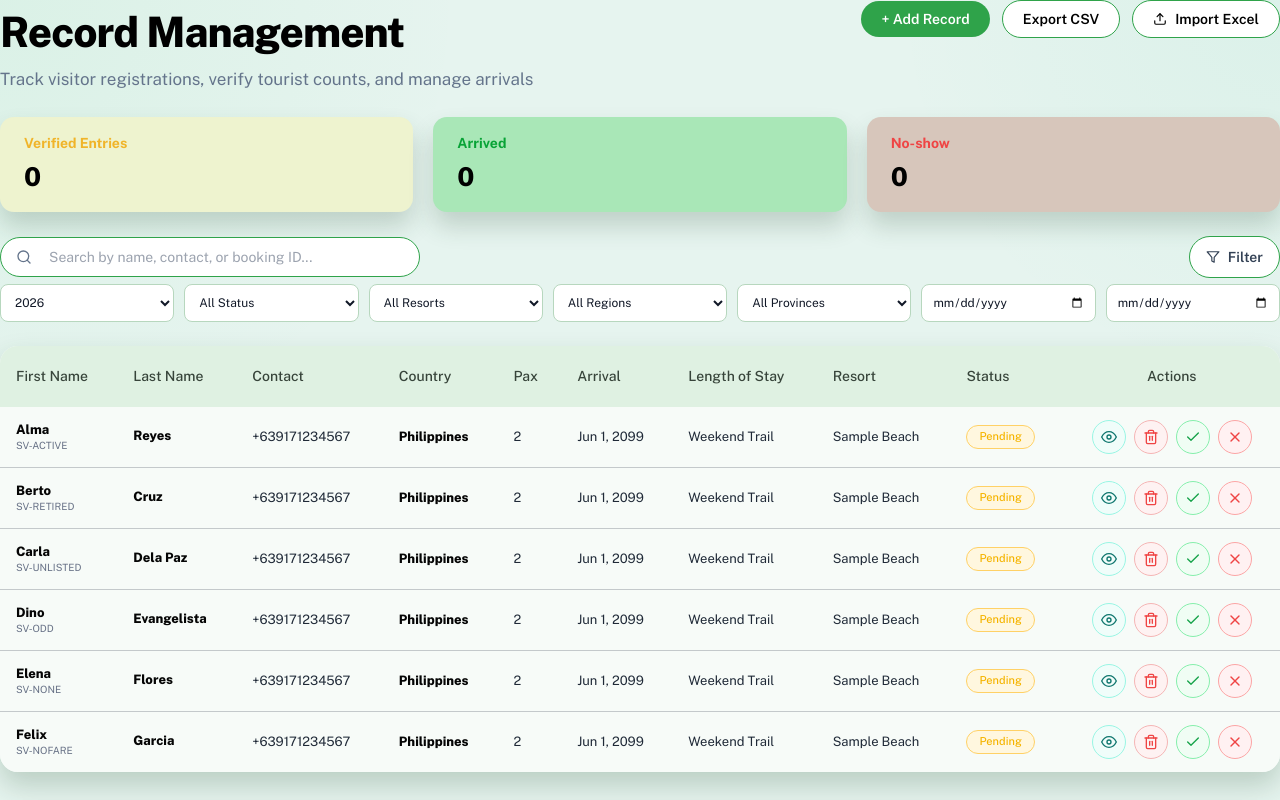
Test: c: a text that is in no tier › is added at the END, marked '(not in the list)', and is the one selected
Step 1. Click the button with class "booking-icon-btn" in the row of "Carla" → x=1109, y=558, box 1092,542 -> 1126,576
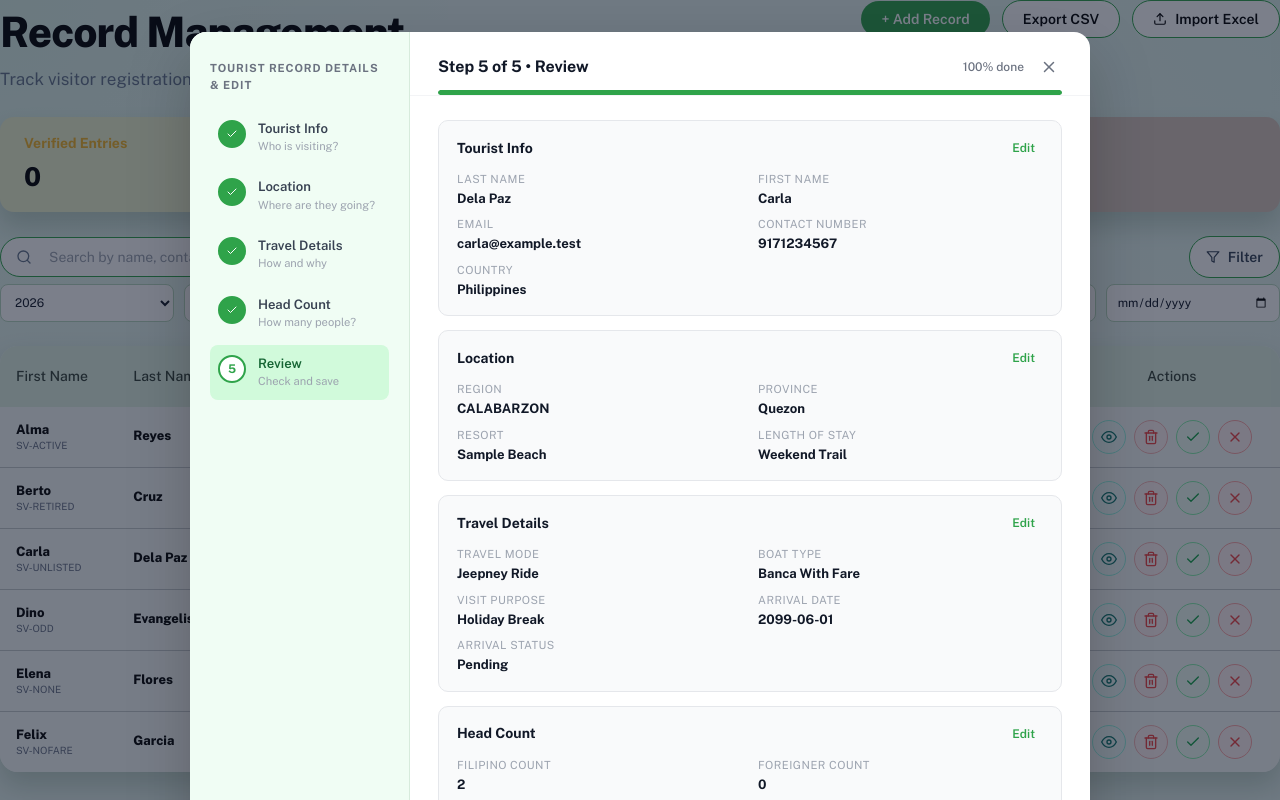
Check: the text "Tourist Record Details & Edit" is shown, box 210,60 -> 389,94
Step 2. Click the text "Travel Details" → x=280, y=254, box 218,237 -> 342,270
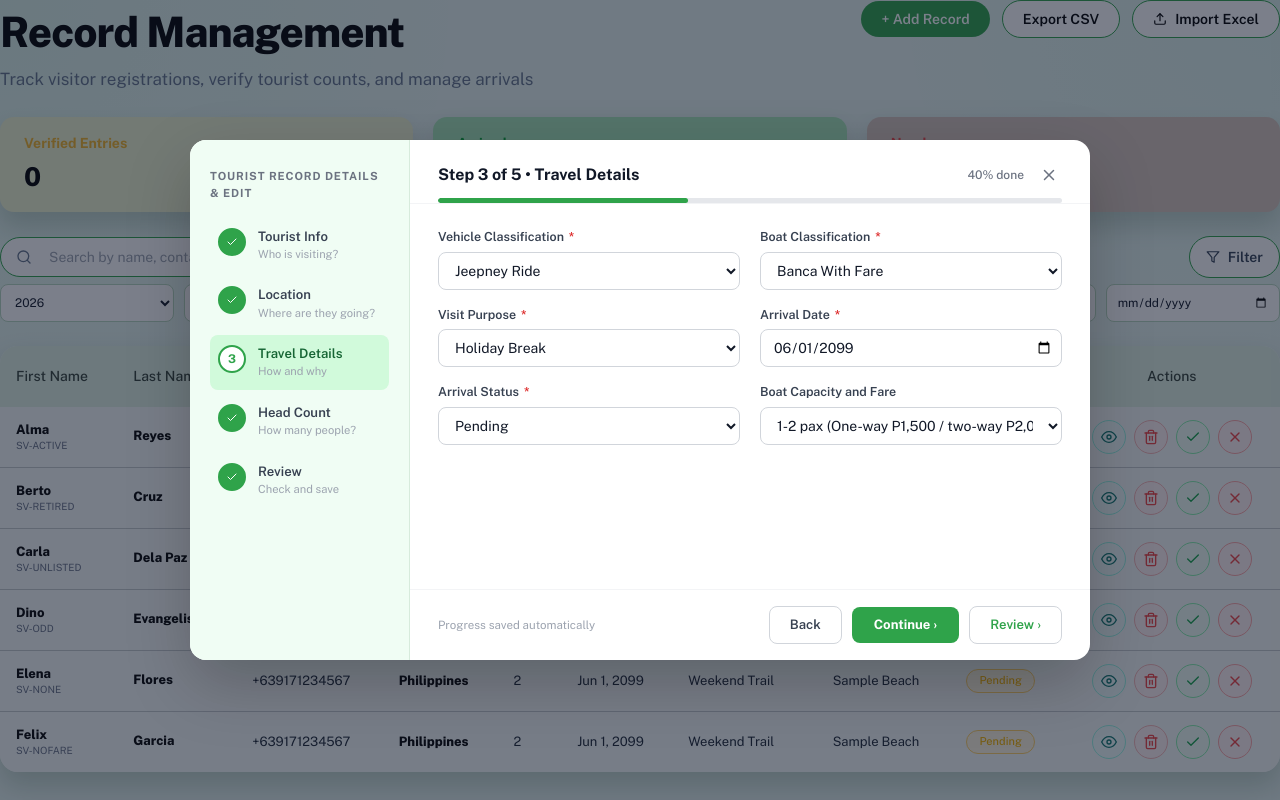
Check: the dropdown "Select capacity and fare" below "Boat Capacity and Fare" shows "1-2 pax (One-way P1,500 / two-way P2,000) (not in the list)", box 760,407 -> 1062,445
